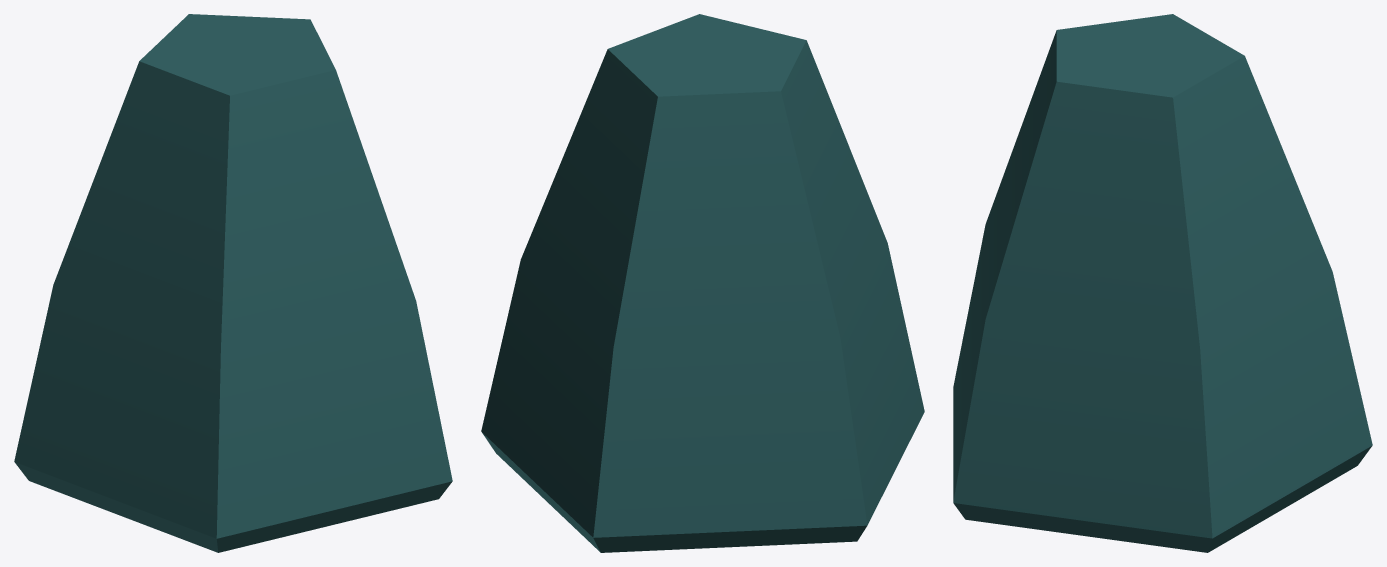
The model's file is SM_Pos_Light.fbx.
3 views of the same model, side by side, from view 1: azimuth 30°, elevation 25°; view 2: azimuth 150°, elevation 25°; view 3: azimuth 270°, elevation 25° (orthographic).
Parts seen in each view (by area): view 1: SM_Pos_Light; view 2: SM_Pos_Light; view 3: SM_Pos_Light.
Boxes of the visible parts, x1,y1,x2,y2 form: SM_Pos_Light: (14, 14, 452, 552); SM_Pos_Light: (481, 14, 924, 552); SM_Pos_Light: (953, 14, 1372, 552).
Size of the model in its own units: 104 by 106 by 98.51.
